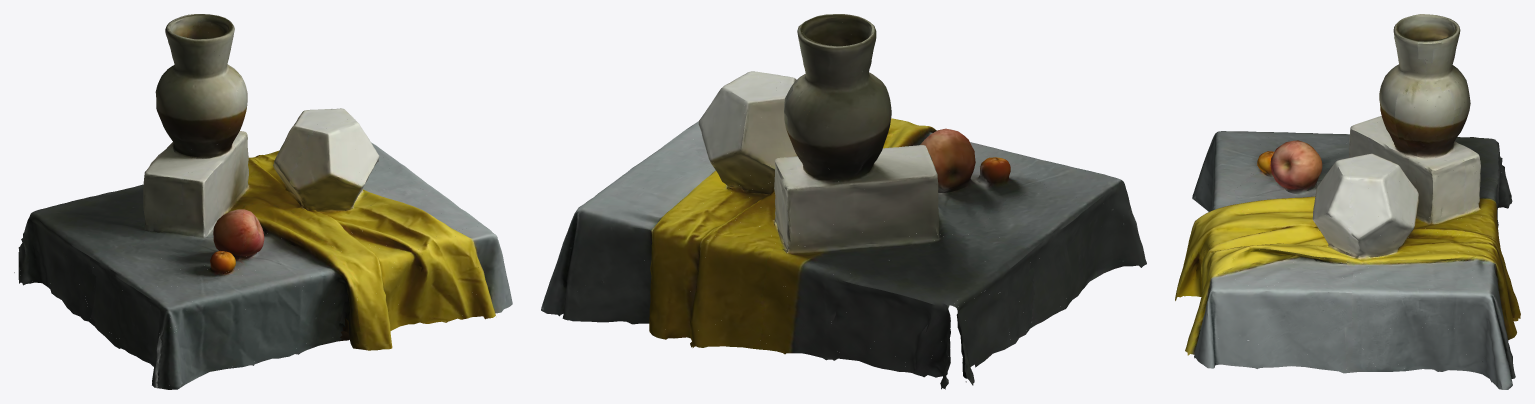
File: 静物_其它_几何体陶罐水果02_opt.glb
The picture shows the model from 3 angles, left to right: view 1: azimuth 30°, elevation 25°; view 2: azimuth 150°, elevation 25°; view 3: azimuth 270°, elevation 25°; orthographic projection. The views are drawn at different scales.
Parts seen in each view (by area): view 1: defaultMat, defaultMat_1; view 2: defaultMat, defaultMat_1; view 3: defaultMat, defaultMat_1.
Part boxes in pixels (bbox=[...]): defaultMat: bbox=[14, 14, 512, 389]; defaultMat_1: bbox=[18, 15, 503, 389]; defaultMat: bbox=[541, 14, 1146, 389]; defaultMat_1: bbox=[541, 19, 1144, 388]; defaultMat: bbox=[1175, 14, 1520, 389]; defaultMat_1: bbox=[1177, 28, 1520, 389].
Size of the model in its own units: 0.876 by 0.6 by 0.7188.
Materials: 1 (1 with a texture image).
